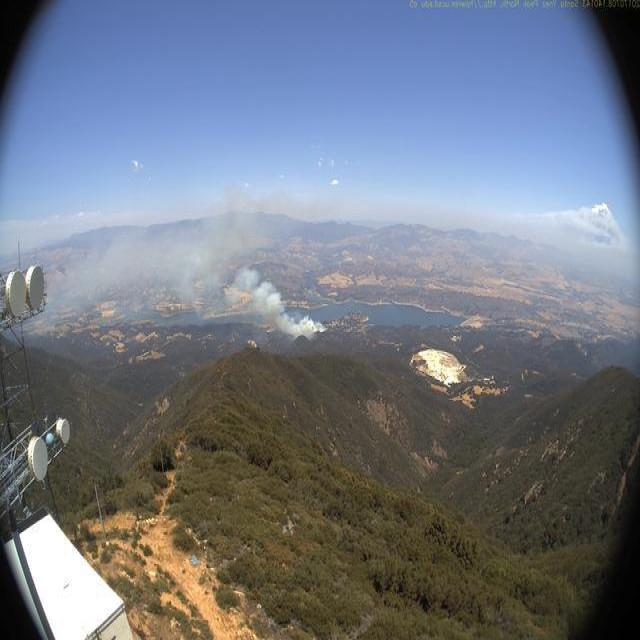Smoke: (91, 179, 333, 344)
